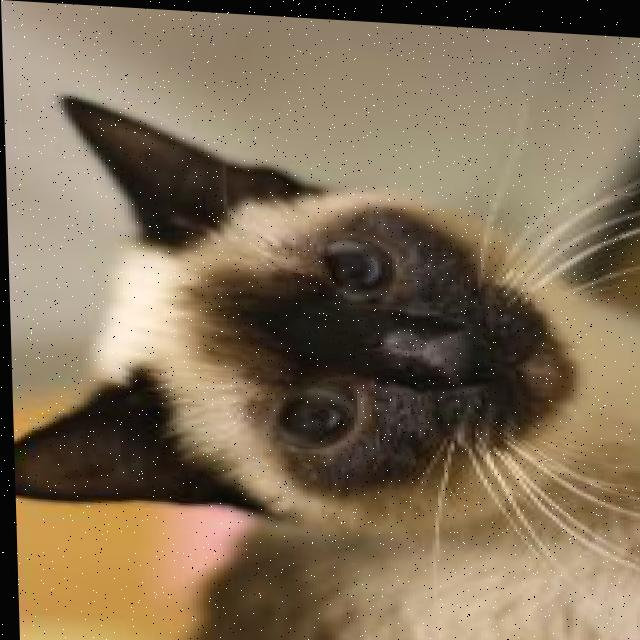Siamese: (2, 90, 640, 640)
